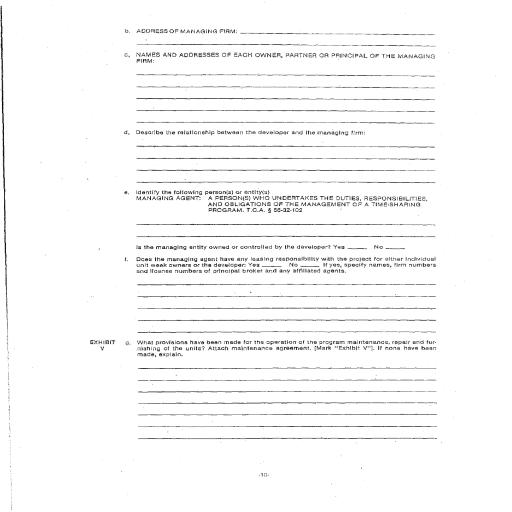check_box: (332, 239, 409, 252), (248, 260, 324, 269)
free_text: (135, 337, 440, 360), (135, 48, 439, 67), (134, 127, 372, 139), (128, 21, 242, 39), (131, 24, 132, 25)
